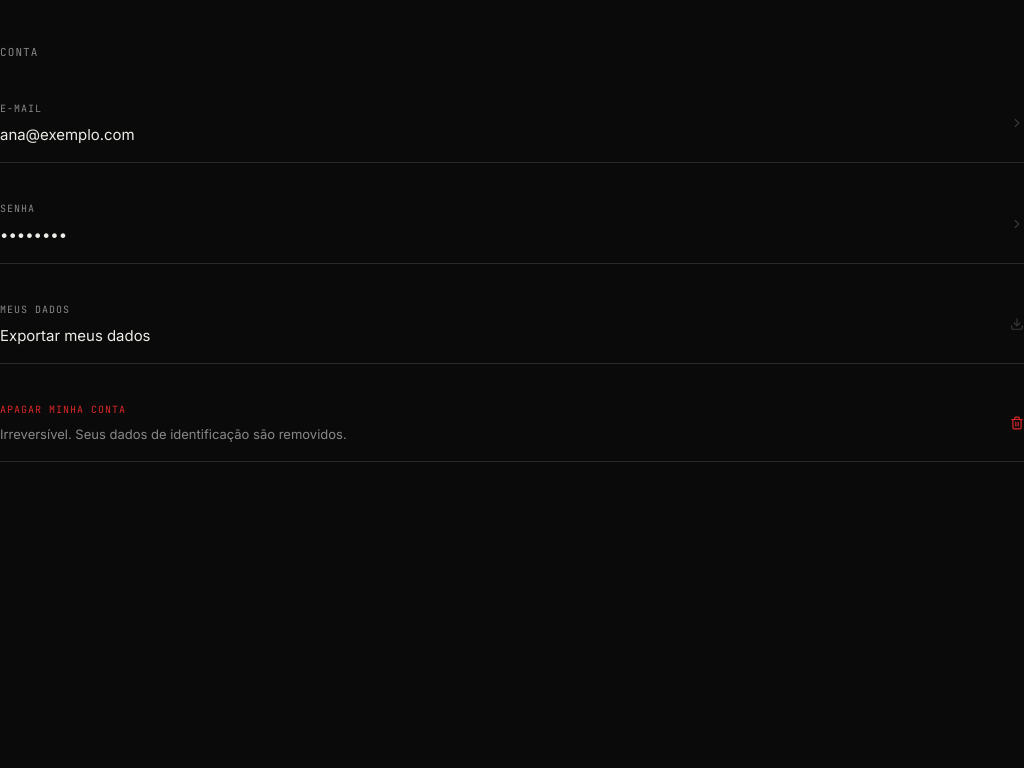
Test: AccountSection › clicar em Senha abre o modal de trocar senha
Click the button "Senha ••••••••" at [18, 208], box [0,185,1023,264]
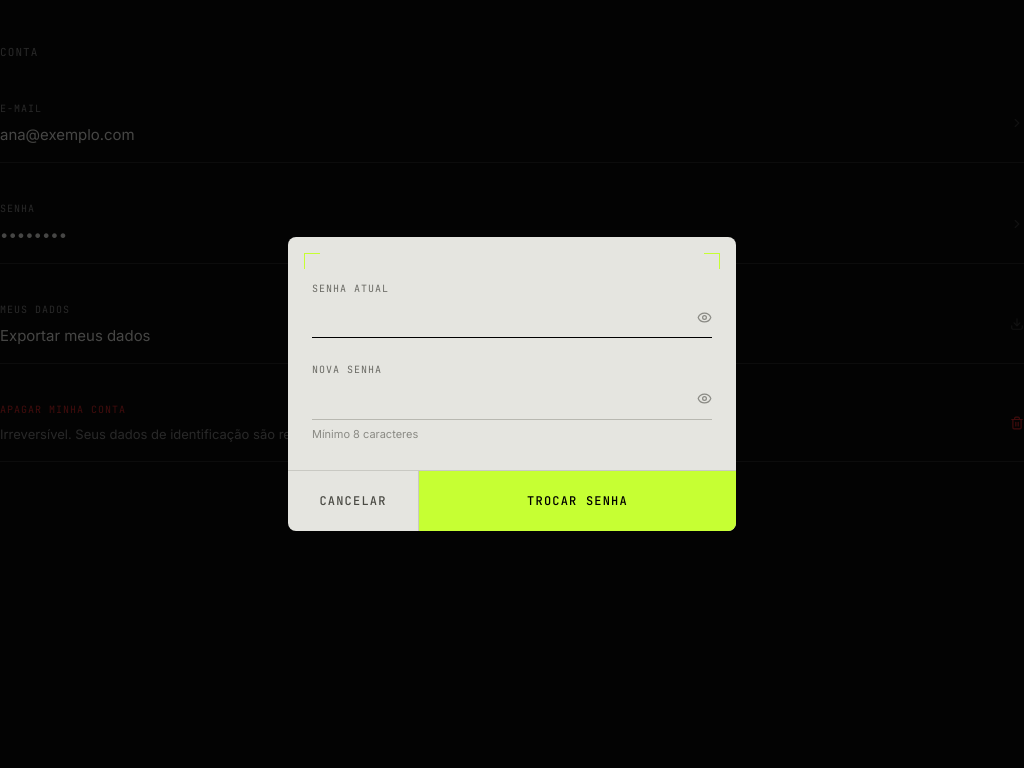
Expected: the dialog "Trocar senha" is shown
